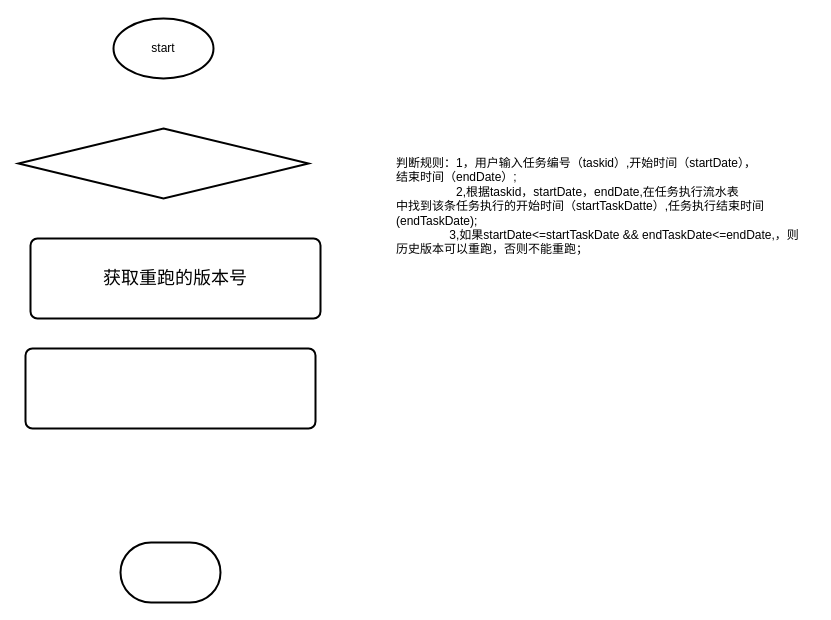
Some shapes in this 831 by 620 pixel diagram are drawn without their labels. Here are the shapes that lost their labels. From the top down, the centre of each, then its label:
At (x=163, y=163): "系统判断是否可以重跑".
At (x=170, y=572): "end".
